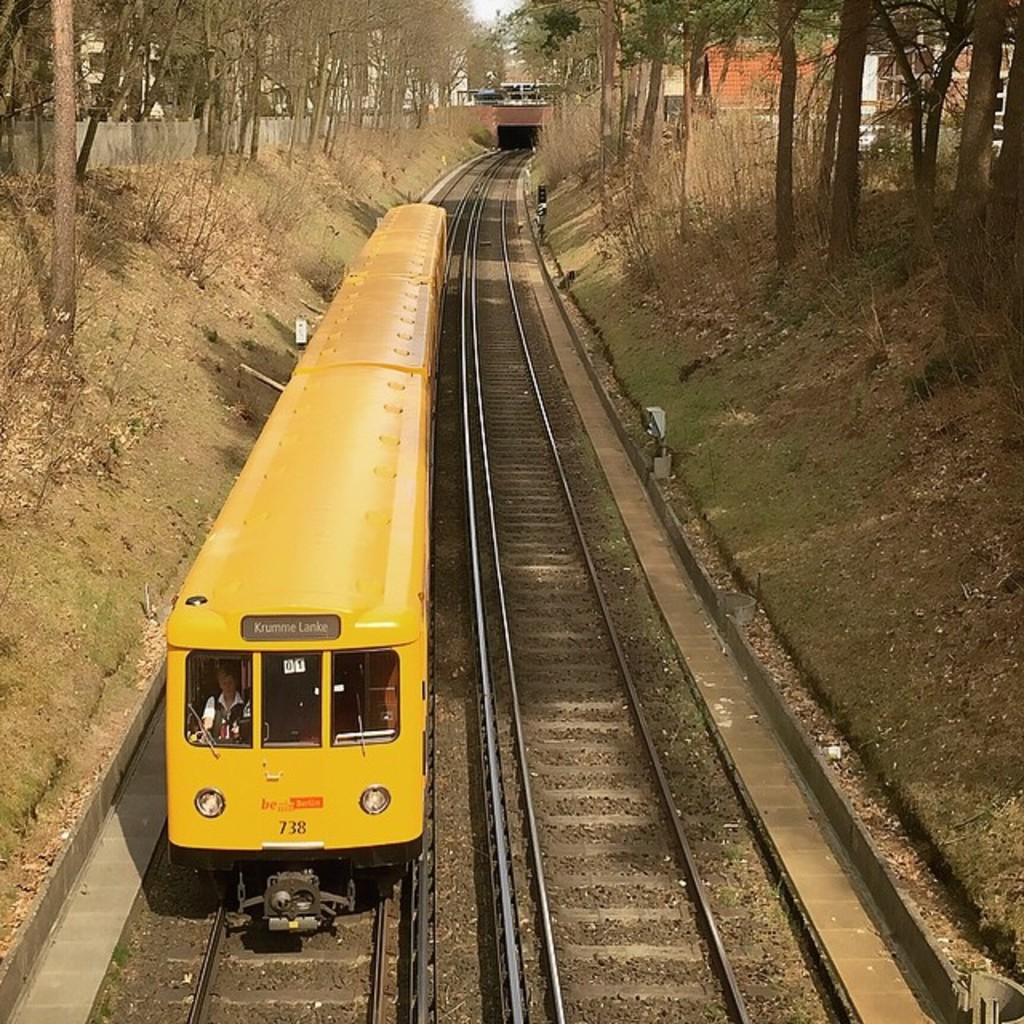train: (167, 201, 446, 920)
